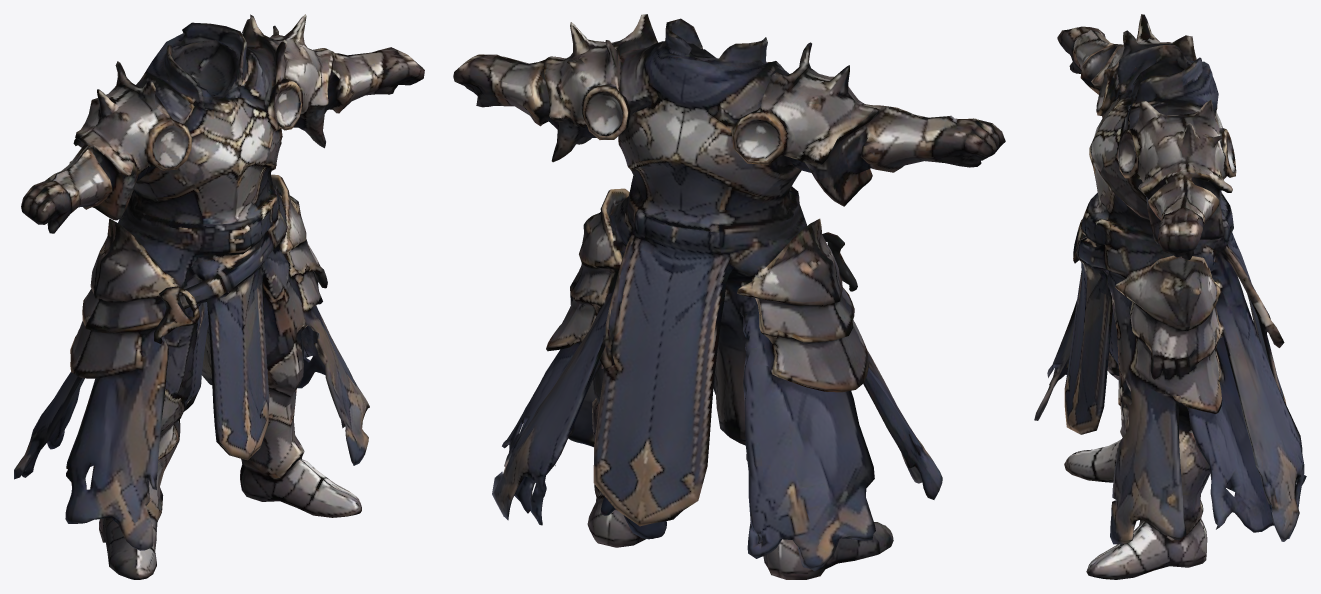
The picture shows the model from 3 angles, left to right: view 1: azimuth 30°, elevation 25°; view 2: azimuth 150°, elevation 25°; view 3: azimuth 270°, elevation 25°; orthographic projection. The views are drawn at different scales.
Parts seen in each view (by area): view 1: tripo_node_22121f4b-20f5-4bfb-812a-f97b8b62d201; view 2: tripo_node_22121f4b-20f5-4bfb-812a-f97b8b62d201; view 3: tripo_node_22121f4b-20f5-4bfb-812a-f97b8b62d201.
Part boxes in pixels (bbox=[...]): tripo_node_22121f4b-20f5-4bfb-812a-f97b8b62d201: bbox=[14, 14, 424, 579]; tripo_node_22121f4b-20f5-4bfb-812a-f97b8b62d201: bbox=[453, 14, 1005, 579]; tripo_node_22121f4b-20f5-4bfb-812a-f97b8b62d201: bbox=[1034, 14, 1306, 579].
Bounding box in the file's own units: 0.9414 × 0.9762 × 0.5137.
1 material, 1 textured.
